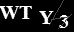3: (58, 14, 69, 29)
T: (18, 5, 33, 20)
W: (1, 5, 20, 20)
Y: (38, 10, 54, 25)
